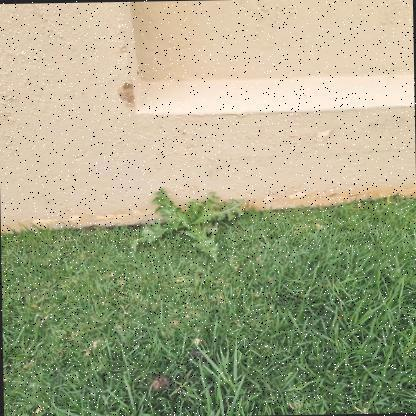Weeds: (127, 186, 250, 269)
